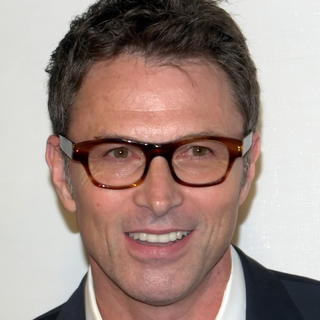eye: (97, 142, 143, 166), (174, 142, 222, 162)
